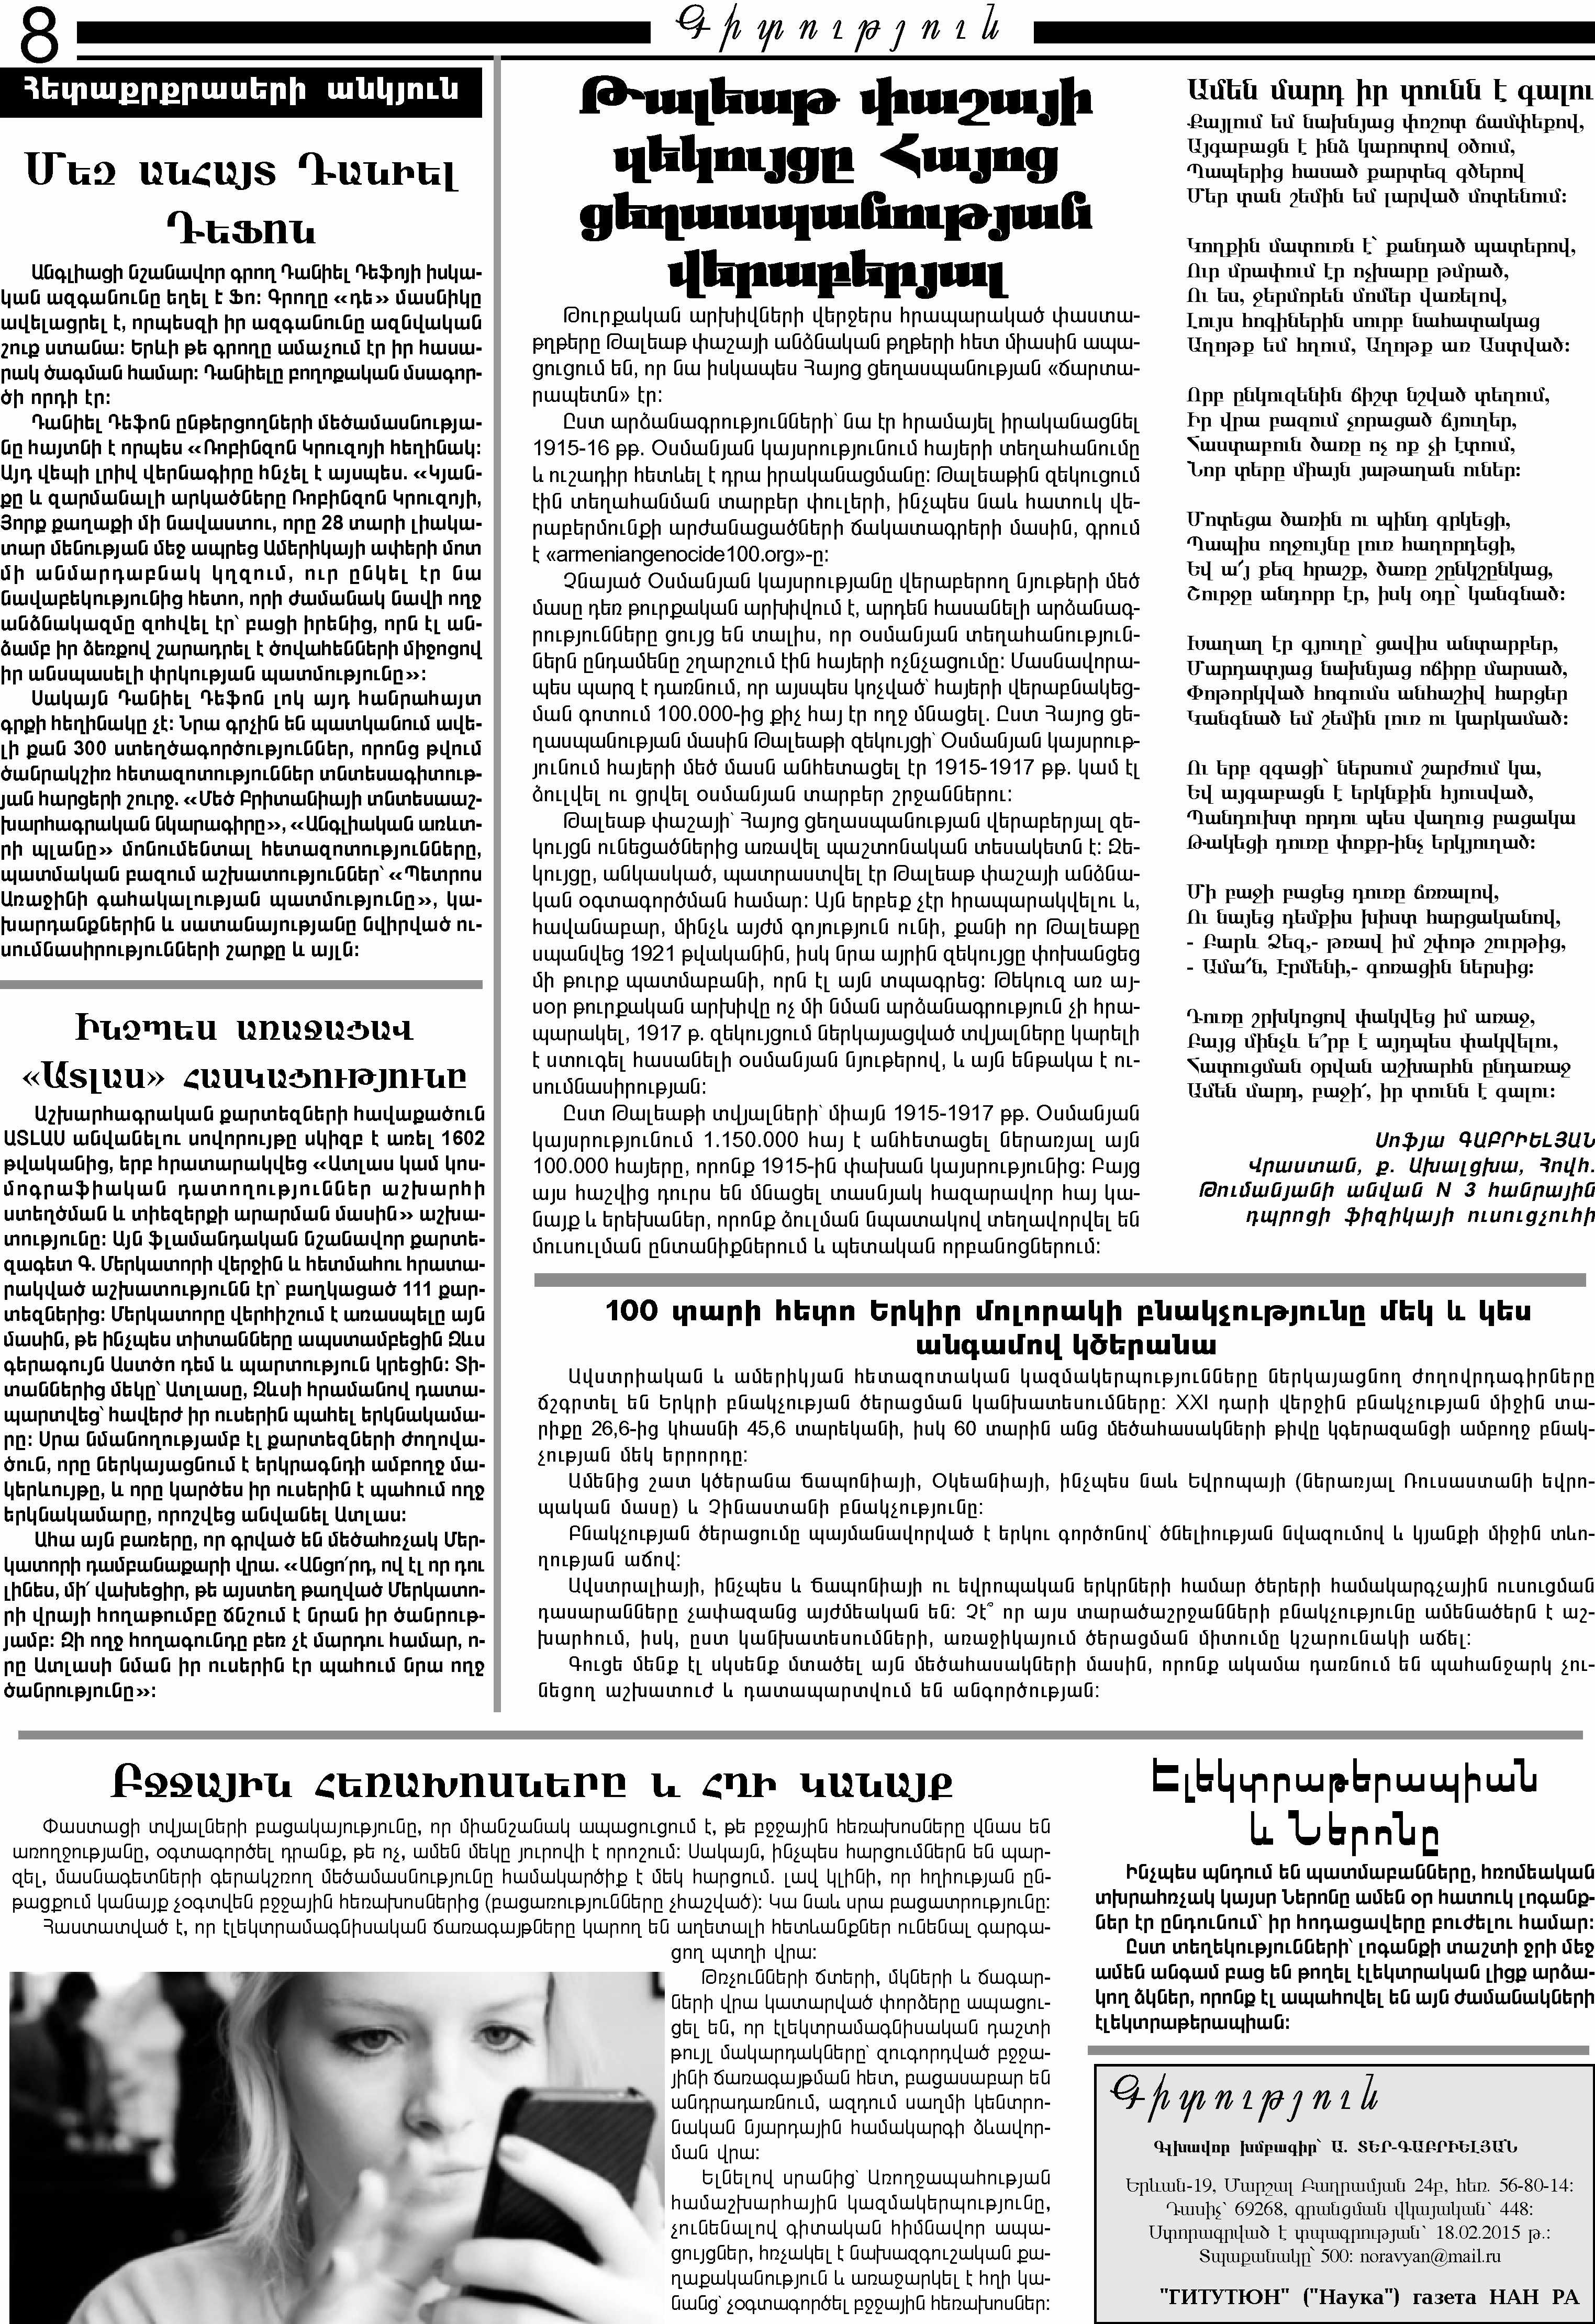person: (1, 1936, 671, 2321)
